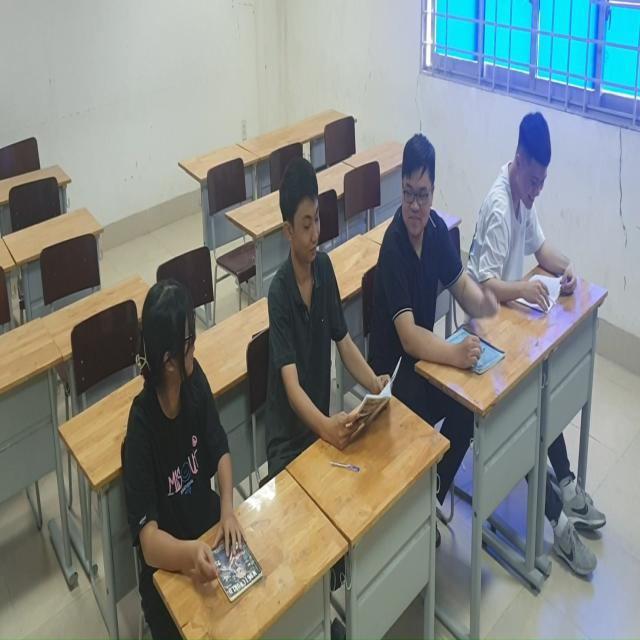read: (118, 269, 259, 599), (259, 155, 405, 450), (376, 91, 509, 377), (470, 106, 583, 320)
